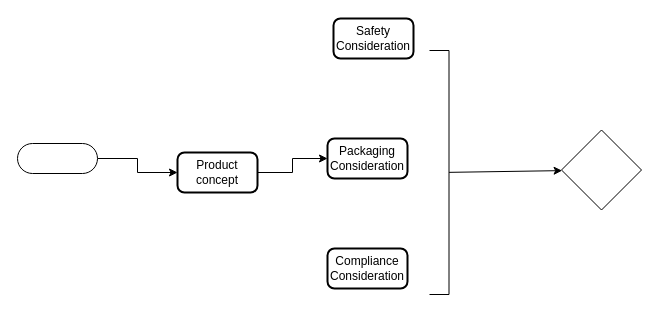
Image size: 659x312. Some labels were removed from this diagram. The shapes that lost their labels are listed below. From the top down, each one's box as (x1, y1, x2, y2) in pixels, then its label:
(16, 142, 98, 174): Start
(560, 129, 642, 210): Satisfactory review?
